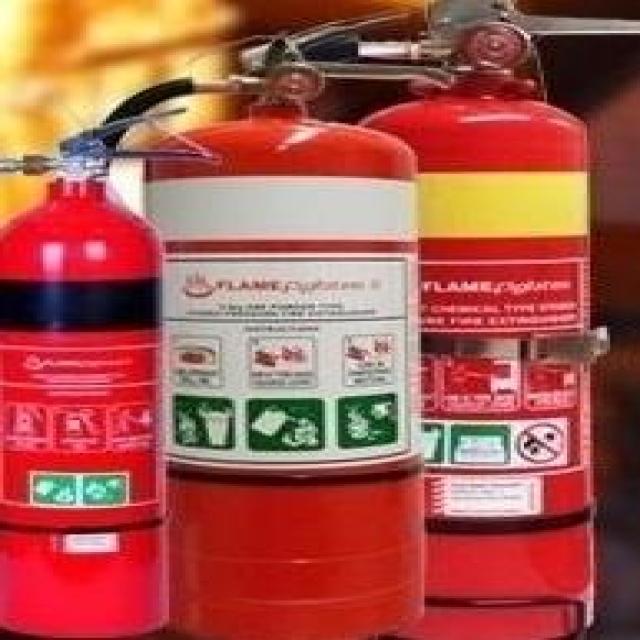fire_extinguisher: (51, 0, 456, 638), (322, 0, 636, 638), (0, 101, 225, 637)
